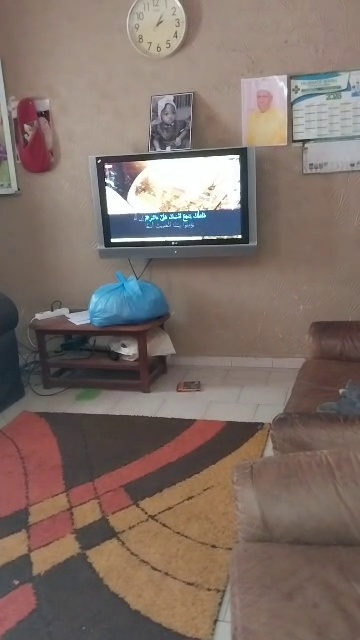television: (84, 148, 273, 262)
